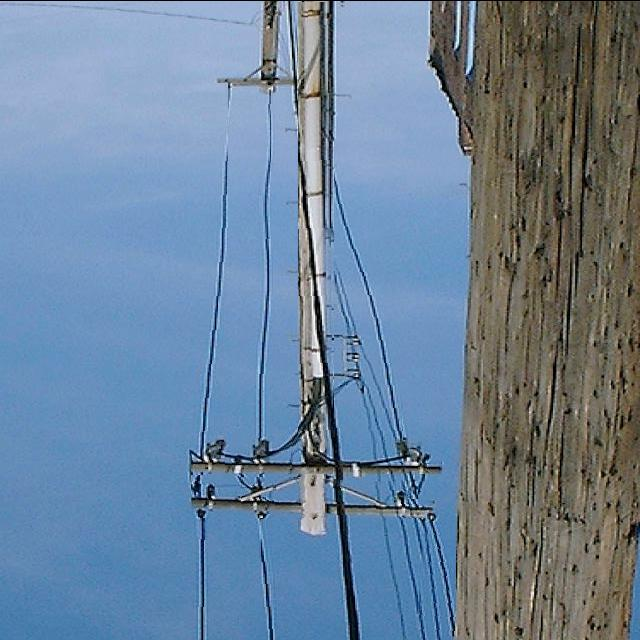crossarm: (191, 476, 435, 517), (191, 437, 442, 473)
pole: (298, 1, 335, 531)
wire: (283, 0, 365, 640), (334, 149, 403, 439), (200, 123, 228, 448), (258, 84, 271, 440), (423, 512, 456, 635), (261, 518, 276, 640), (198, 508, 205, 640), (408, 470, 418, 498)
